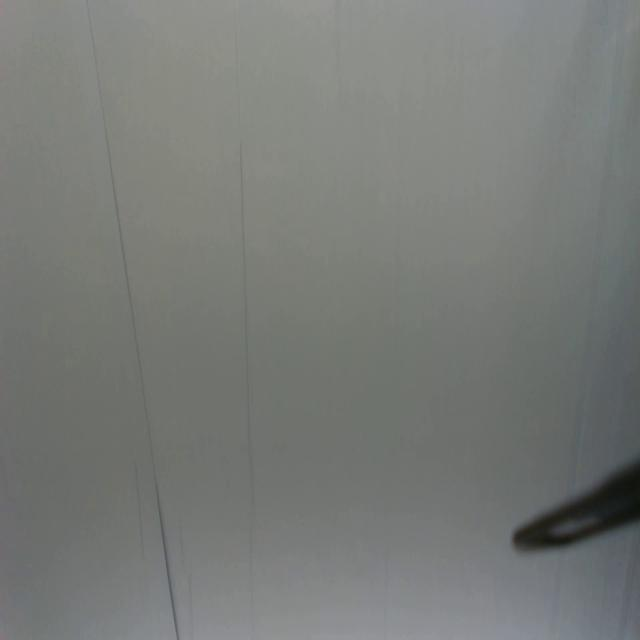crease: (85, 1, 184, 640), (229, 0, 258, 638), (131, 457, 147, 561)
